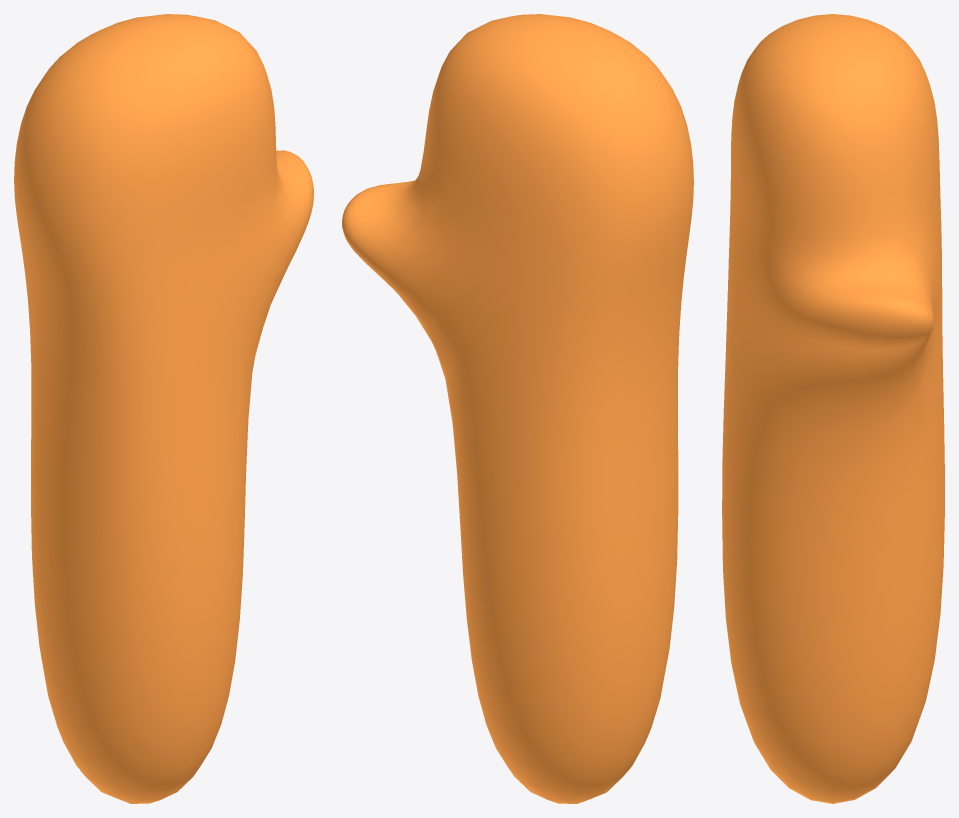
The model's file is risunote.fbx.
3 renders of one model, left to right at view 1: azimuth 30°, elevation 25°; view 2: azimuth 150°, elevation 25°; view 3: azimuth 270°, elevation 25°, orthographic.
Visible parts, largest first — view 1: obj1; view 2: obj1; view 3: obj1.
Part boxes in pixels (x1=…): obj1: x1=14, y1=14, x2=313, y2=803; obj1: x1=342, y1=14, x2=693, y2=803; obj1: x1=722, y1=14, x2=944, y2=803.
Bounding box in the file's own units: 255 × 626 × 163.
